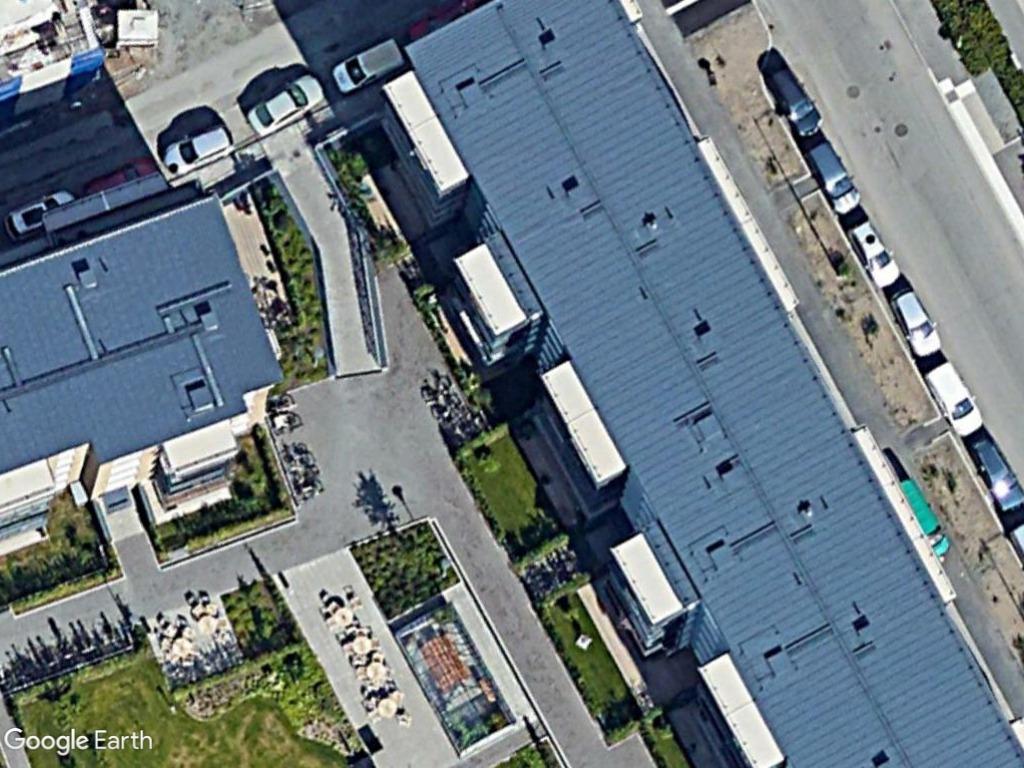car: (247, 68, 326, 137), (761, 64, 825, 141), (803, 138, 865, 217), (966, 433, 1024, 514), (161, 120, 236, 176), (847, 215, 902, 290), (891, 283, 942, 359)
van: (923, 359, 985, 440), (327, 36, 408, 96)
